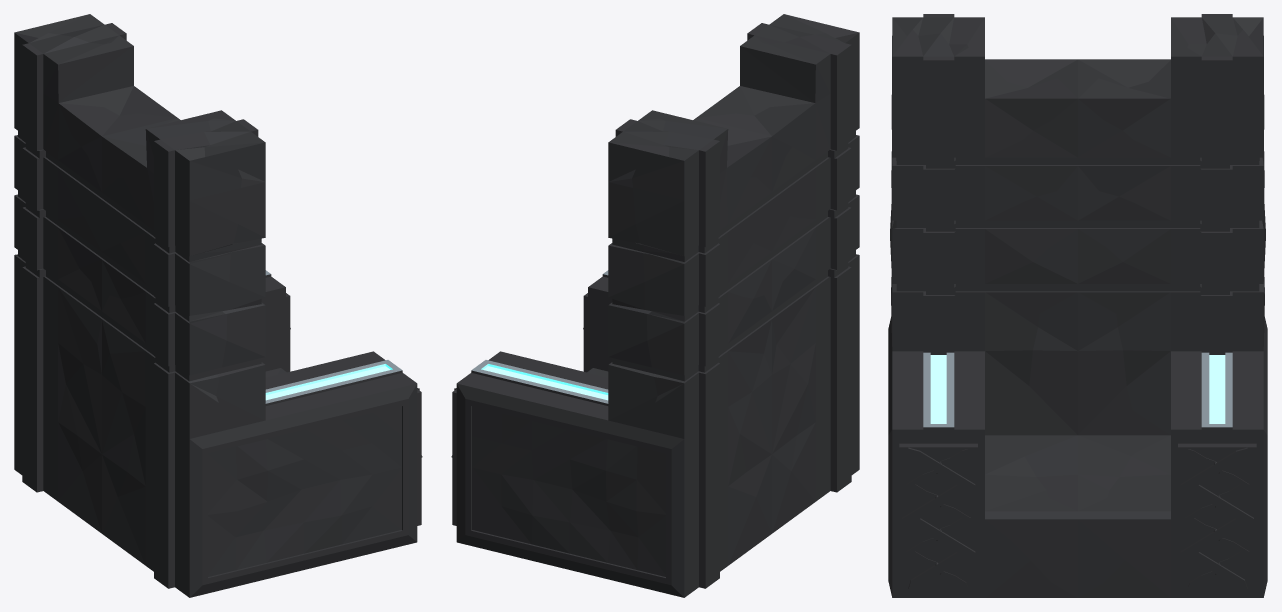
Rendered from Throne.fbx.
The picture shows the model from 3 angles, left to right: view 1: azimuth 30°, elevation 25°; view 2: azimuth 150°, elevation 25°; view 3: azimuth 270°, elevation 25°; orthographic projection. The views are drawn at different scales.
Parts seen in each view (by area): view 1: Throne; view 2: Throne; view 3: Throne.
Boxes of the visible parts, x1,y1,x2,y2 form: Throne: (14, 14, 422, 597); Throne: (451, 14, 859, 597); Throne: (888, 14, 1267, 597).
Bounding box in the file's own units: 6.44 × 11.08 × 8.18.
